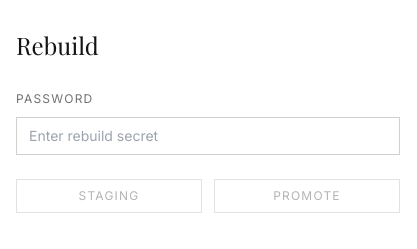
RebuildPage › shows success message after staging is triggered
Type "mysecret" into the password field labelled "Password" at (208, 136), box [16,117,400,155]
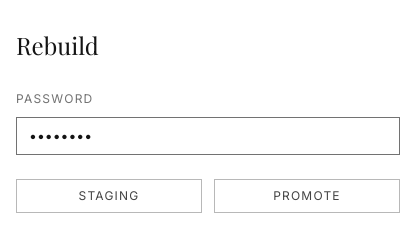
Click the button "Staging" at (109, 196), box [16,179,202,213]
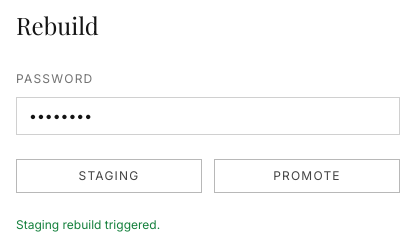
expect the text "Staging rebuild triggered." is shown: met, box [16,217,160,232]
